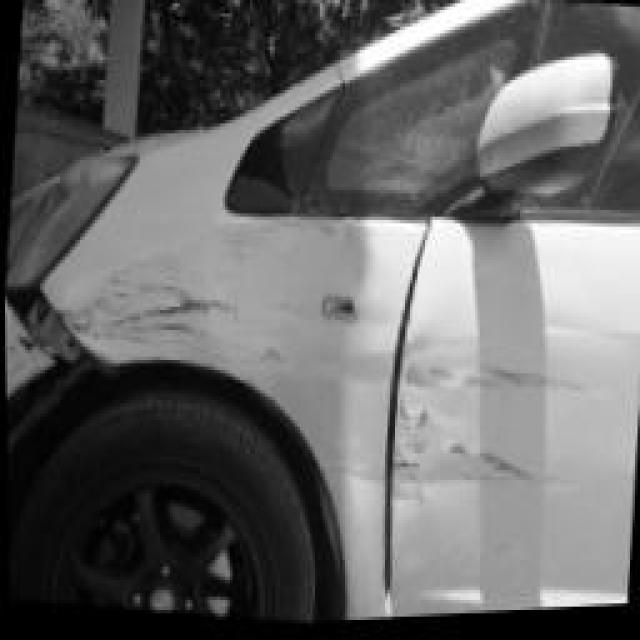Bumper: (5, 287, 52, 412)
Door: (380, 270, 632, 595)
Fender: (60, 220, 355, 414)
